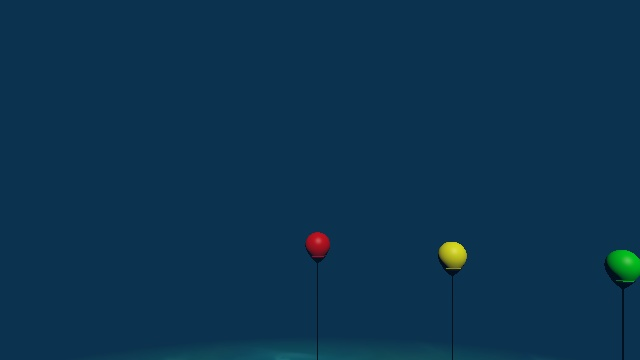buoy_red: (304, 231, 329, 263)
